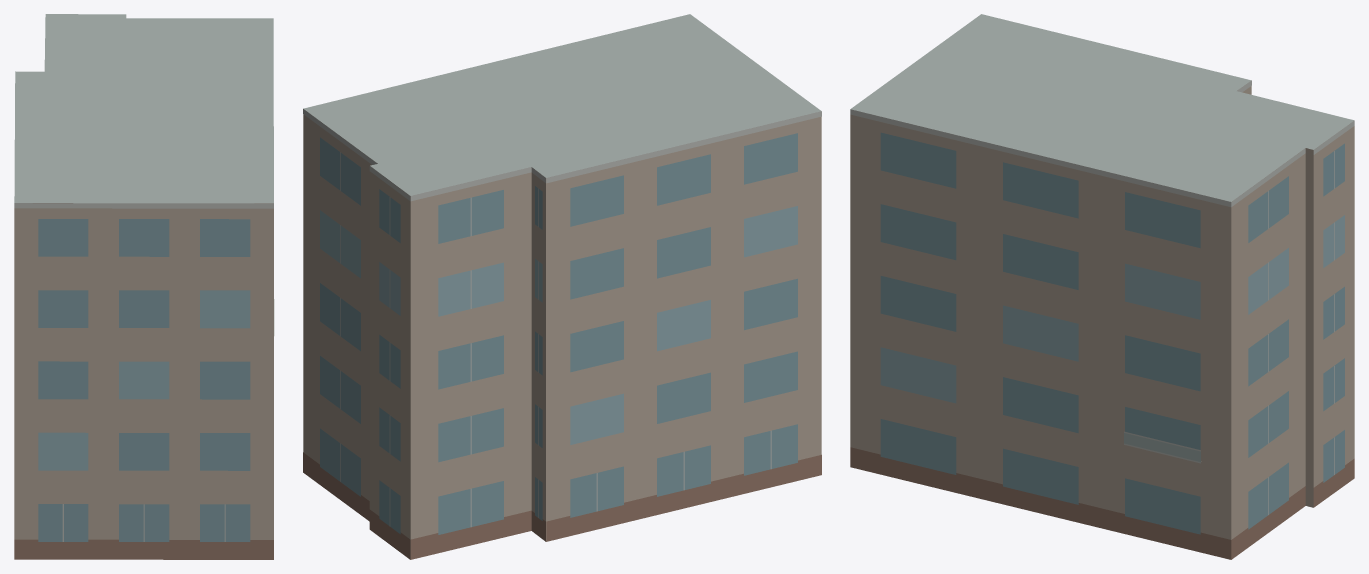
Rendered from survey-upis-32774182.glb.
3 renders of one model, left to right at view 1: azimuth 30°, elevation 25°; view 2: azimuth 150°, elevation 25°; view 3: azimuth 270°, elevation 25°, orthographic. The views are drawn at different scales.
Visible parts, largest first — view 1: survey-upis-32774182.tmp; view 2: survey-upis-32774182.tmp; view 3: survey-upis-32774182.tmp.
Boxes of the visible parts, x1,y1,x2,y2 form: survey-upis-32774182.tmp: (14,14,274,559); survey-upis-32774182.tmp: (303,14,821,559); survey-upis-32774182.tmp: (850,14,1354,559).
Size of the model in its own units: 18.49 by 16.41 by 20.97.
